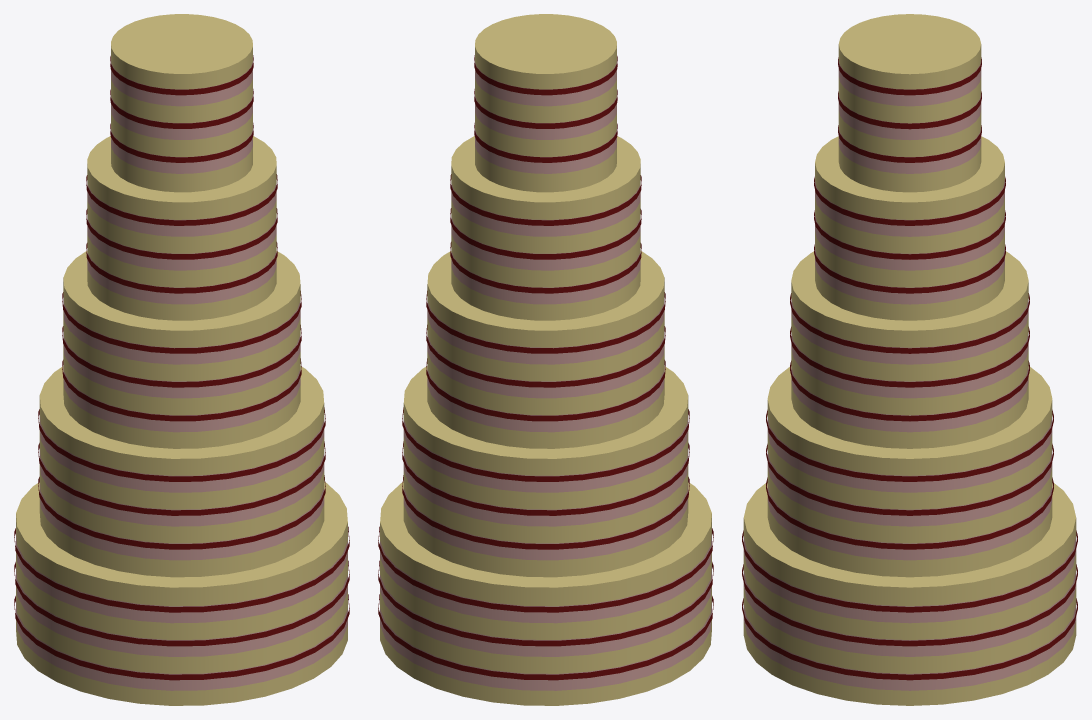
Rendered from cake-config.glb.
3 renders of one model, left to right at view 1: azimuth 30°, elevation 25°; view 2: azimuth 150°, elevation 25°; view 3: azimuth 270°, elevation 25°, orthographic.
Visible parts, largest first — view 1: 14_Cake, 12_Cake, 10_Cake, 8_Cake, 14_Frosting, 12_Frosting, 6_Cake, 10_Frosting, 8_Frosting, 6_TopCap, 14_Filling, 14_TopCap (+8 smaller); view 2: 14_Cake, 12_Cake, 10_Cake, 8_Cake, 14_Frosting, 12_Frosting, 6_Cake, 10_Frosting, 8_Frosting, 6_TopCap, 14_Filling, 14_TopCap (+8 smaller); view 3: 14_Cake, 12_Cake, 10_Cake, 8_Cake, 14_Frosting, 12_Frosting, 6_Cake, 10_Frosting, 8_Frosting, 6_TopCap, 14_Filling, 14_TopCap (+8 smaller).
Boxes of the visible parts, <box> form: 14_Cake: <box>16,514,347,705</box>; 12_Cake: <box>39,395,324,577</box>; 10_Cake: <box>63,277,300,448</box>; 8_Cake: <box>87,164,276,320</box>; 14_Frosting: <box>16,533,347,690</box>; 12_Frosting: <box>39,412,324,560</box>; 6_Cake: <box>111,46,252,192</box>; 10_Frosting: <box>63,294,300,432</box>; 8_Frosting: <box>87,181,276,304</box>; 6_TopCap: <box>111,14,252,73</box>; 14_Filling: <box>14,526,349,680</box>; 14_TopCap: <box>16,481,347,587</box>; 14_Cake: <box>380,514,711,705</box>; 12_Cake: <box>403,395,688,577</box>; 10_Cake: <box>427,277,664,448</box>; 8_Cake: <box>451,164,640,320</box>; 14_Frosting: <box>380,533,711,690</box>; 12_Frosting: <box>403,412,688,560</box>; 6_Cake: <box>475,46,616,192</box>; 10_Frosting: <box>427,294,664,432</box>; 8_Frosting: <box>451,181,640,304</box>; 6_TopCap: <box>475,14,616,73</box>; 14_Filling: <box>378,526,713,680</box>; 14_TopCap: <box>380,481,711,587</box>; 14_Cake: <box>743,518,1076,705</box>; 12_Cake: <box>767,400,1052,577</box>; 10_Cake: <box>791,282,1028,448</box>; 8_Cake: <box>815,163,1004,320</box>; 14_Frosting: <box>743,536,1076,690</box>; 12_Frosting: <box>767,417,1052,560</box>; 6_Cake: <box>838,44,981,192</box>; 10_Frosting: <box>791,299,1028,432</box>; 8_Frosting: <box>815,180,1004,304</box>; 6_TopCap: <box>839,14,980,74</box>; 14_Filling: <box>742,530,1077,680</box>; 14_TopCap: <box>744,483,1075,587</box>.
Bounding box in the file's own units: 0.3592 × 0.6983 × 0.3592.
